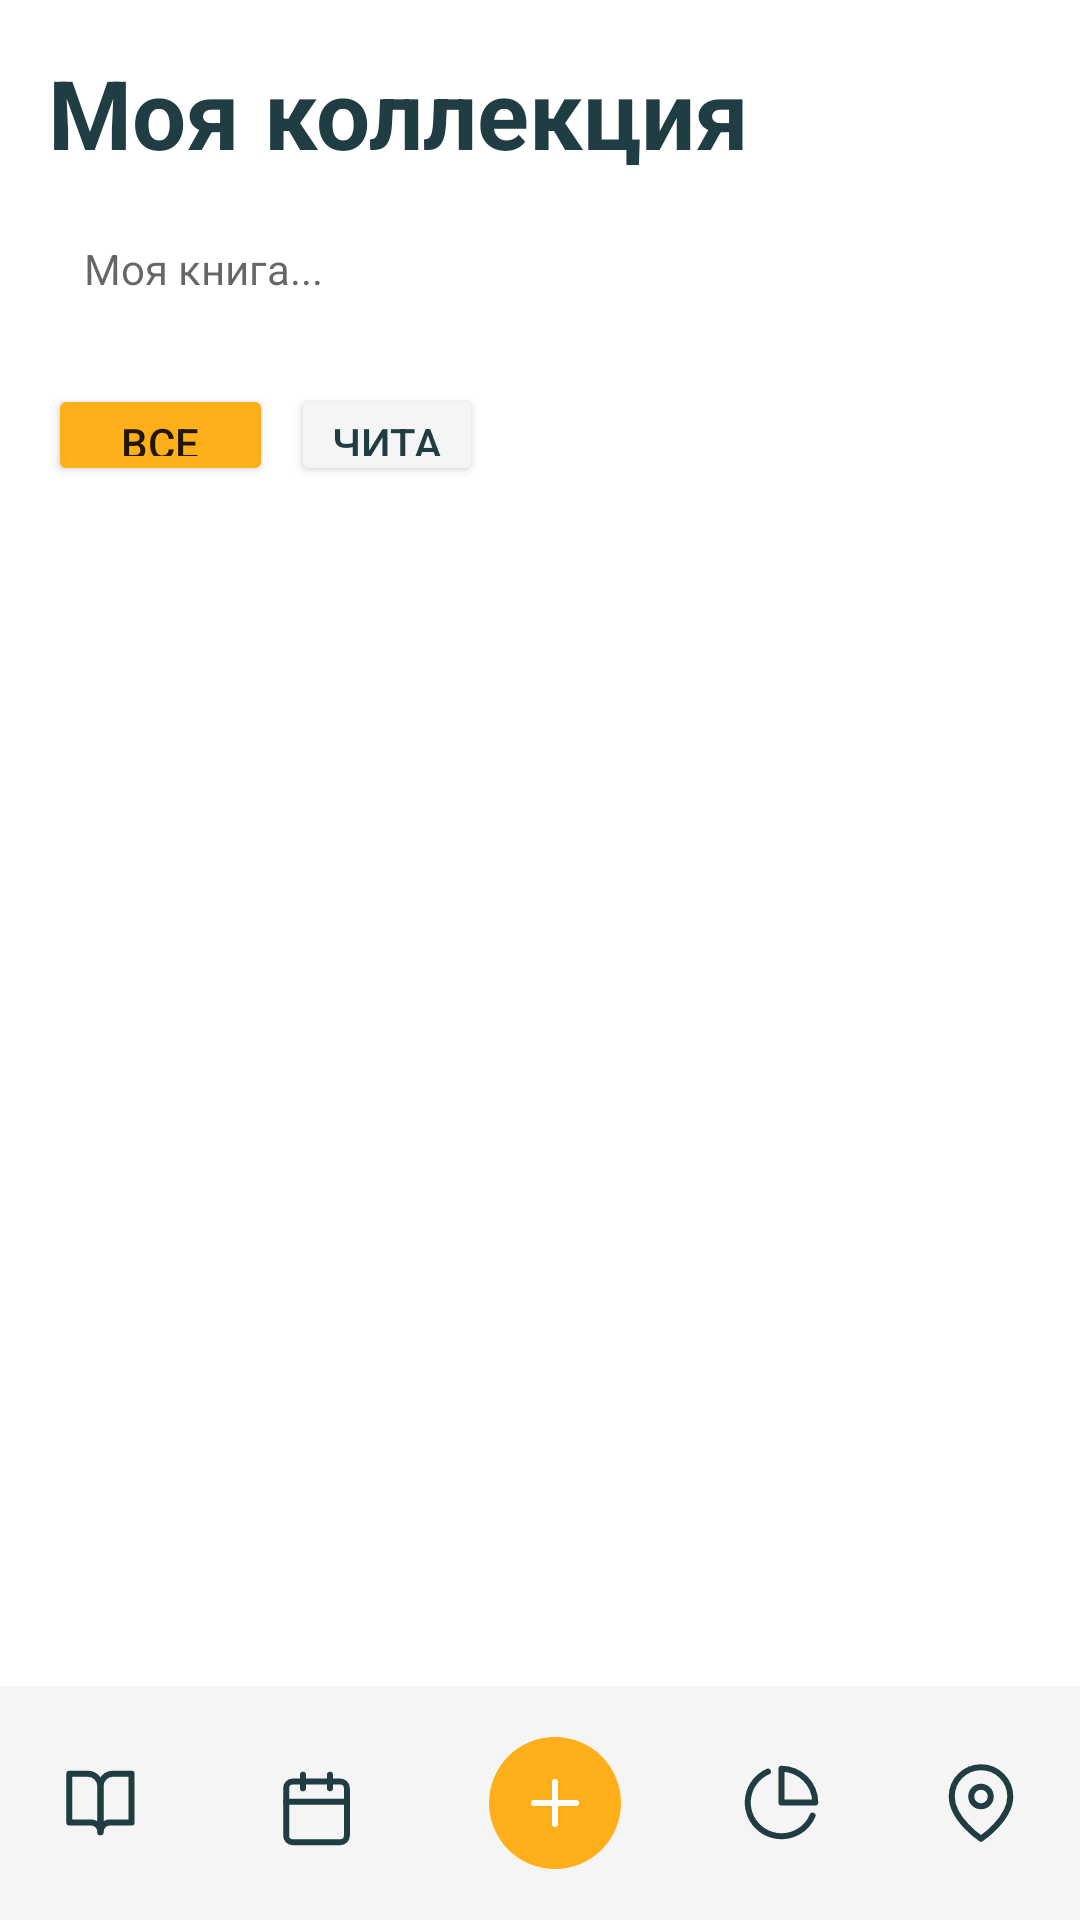

Icon bounding boxes for this 1080px x 1920px phone screenshot, format {"left": x1, "top": y1, "right": x2, "bottom": y2}:
add: {"left": 489, "top": 1737, "right": 621, "bottom": 1869}
books: {"left": 66, "top": 1770, "right": 135, "bottom": 1836}
calendar: {"left": 283, "top": 1771, "right": 350, "bottom": 1846}
map: {"left": 948, "top": 1764, "right": 1014, "bottom": 1842}
stats: {"left": 744, "top": 1765, "right": 819, "bottom": 1840}
